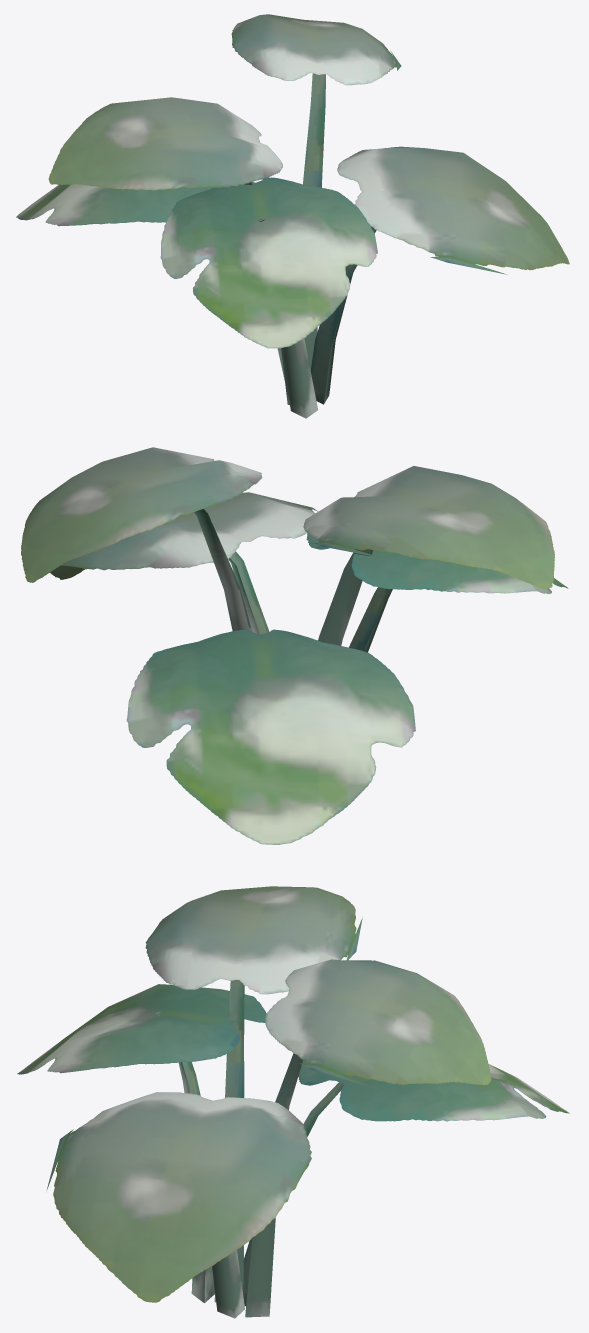
The model's file is pref_sm_beach_winter_techptree06e_lv3.fbx.
3 renders of one model, top to bottom at view 1: azimuth 30°, elevation 25°; view 2: azimuth 150°, elevation 25°; view 3: azimuth 270°, elevation 25°, orthographic. The views are drawn at different scales.
Parts seen in each view (by area): view 1: pref_sm_beach_winter_techptree06e_lv3; view 2: pref_sm_beach_winter_techptree06e_lv3; view 3: pref_sm_beach_winter_techptree06e_lv3.
Part boxes in pixels (x1,y1,x2,y2): pref_sm_beach_winter_techptree06e_lv3: (16,14,569,418); pref_sm_beach_winter_techptree06e_lv3: (21,447,568,844); pref_sm_beach_winter_techptree06e_lv3: (17,886,569,1318).
Bounding box in the file's own units: 1.51 × 1 × 1.42.
